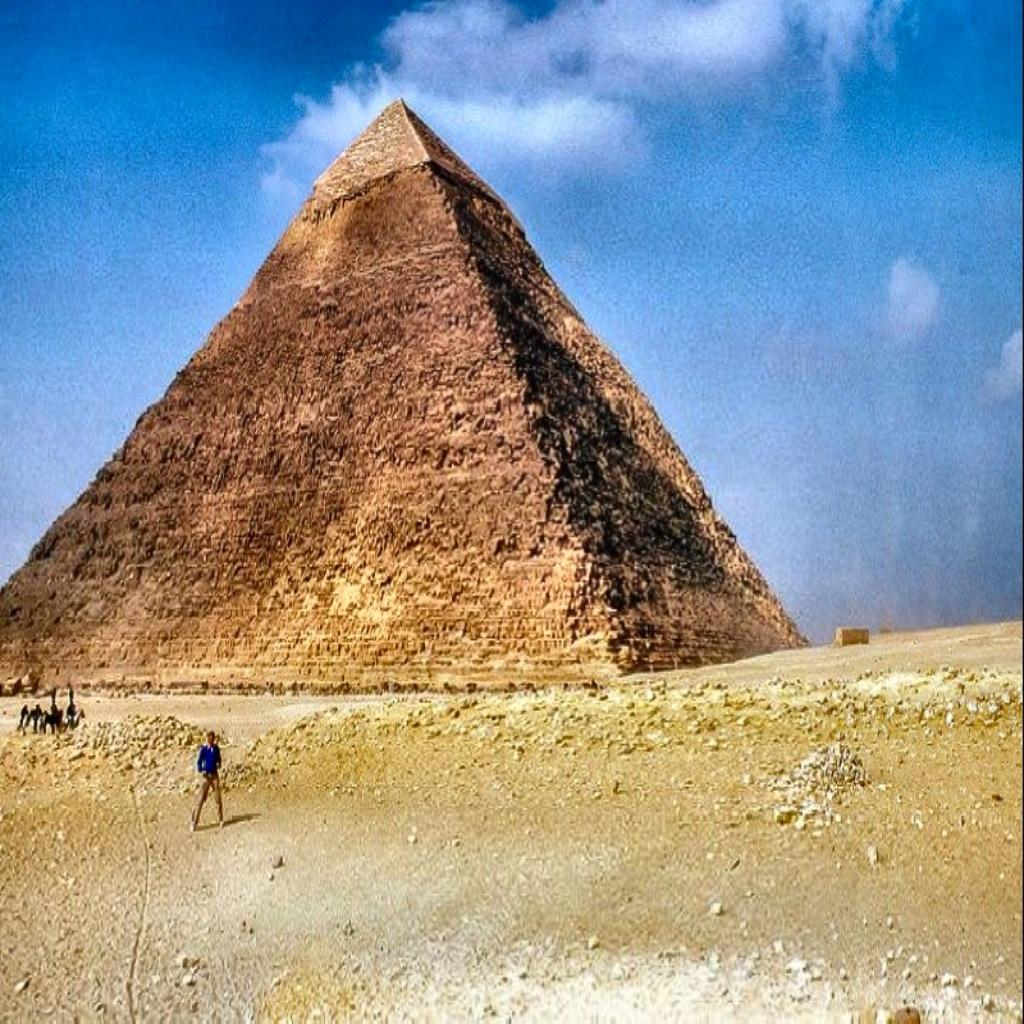Great Pyramids of Giza: (2, 96, 812, 688)
